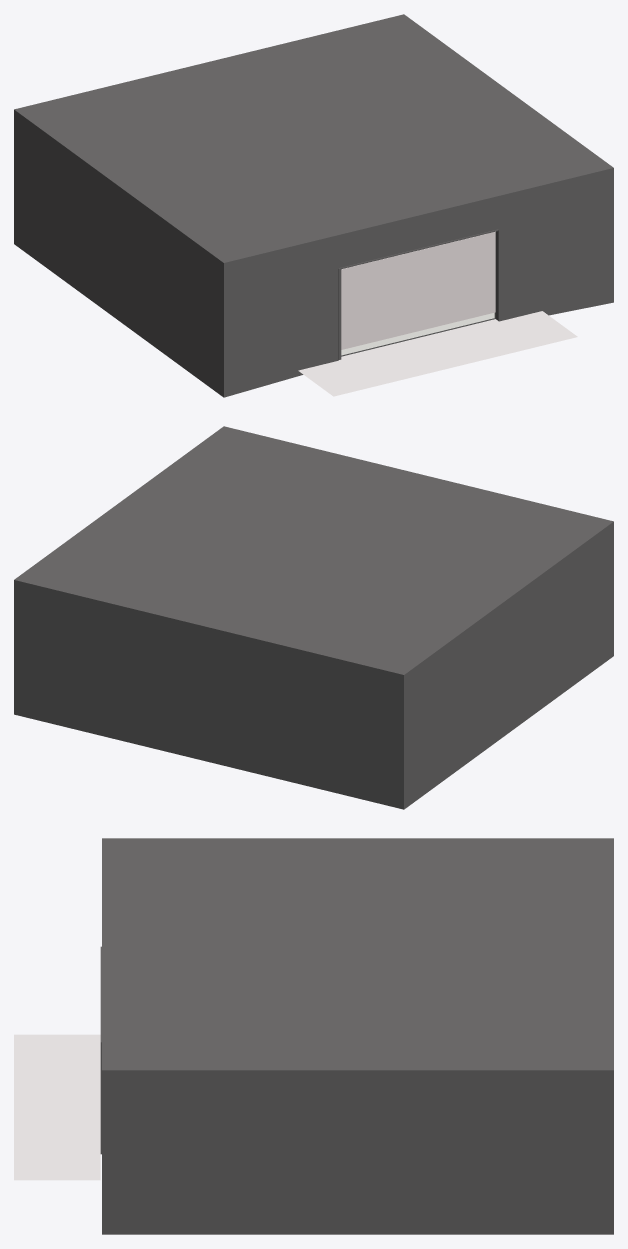
The model's file is prim ring garage.fbx.
The picture shows the model from 3 angles, top to bottom: view 1: azimuth 30°, elevation 25°; view 2: azimuth 150°, elevation 25°; view 3: azimuth 270°, elevation 25°; orthographic projection. The views are drawn at different scales.
Parts seen in each view (by area): view 1: box, gv, garage; view 2: box; view 3: box, garage.
Part boxes in pixels (bbox=[...]): box: bbox=[14, 14, 613, 397]; gv: bbox=[341, 231, 495, 349]; garage: bbox=[298, 229, 577, 396]; box: bbox=[14, 426, 613, 809]; box: bbox=[102, 838, 613, 1234]; garage: bbox=[14, 946, 101, 1180].
Size of the model in its own units: 784 by 258 by 856.
Materials: 6 (3 with a texture image).
